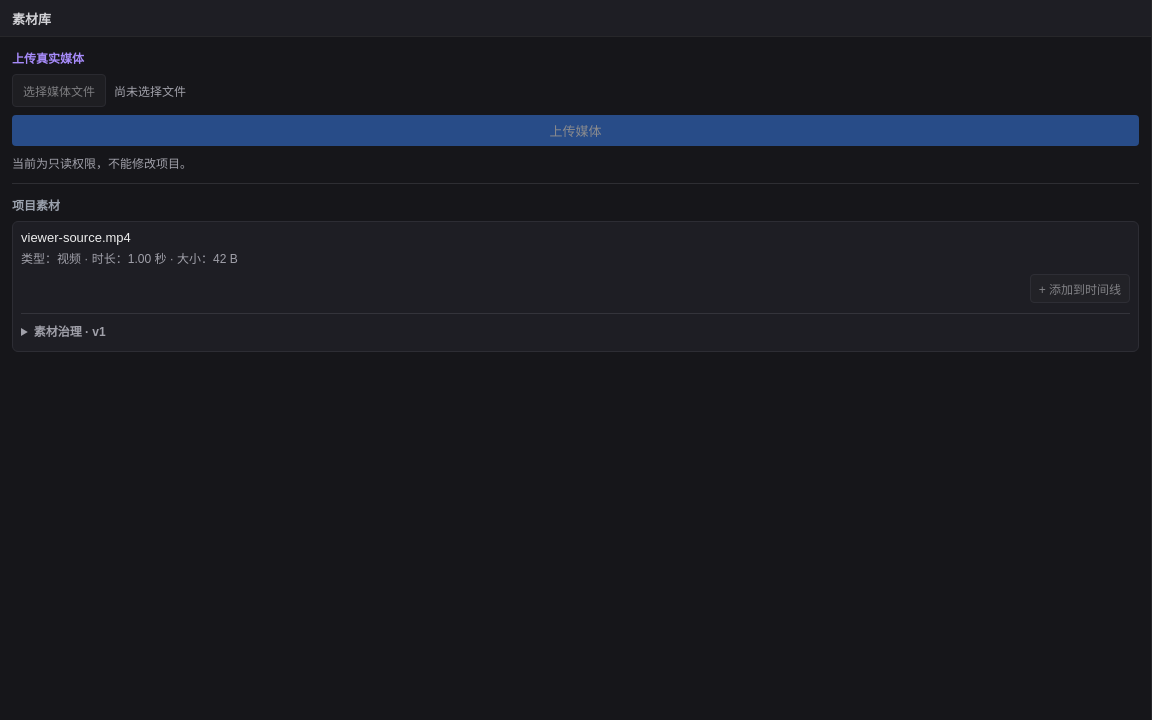
Test: Aether Studio 中文工作台 › keeps governance and timeline writes disabled for viewers
Expected: the button "+ 添加到时间线" is disabled, top-left (1030, 274), bottom-right (1130, 303)
Click the heading "素材治理 · v1". click: (70, 332)
box: top-left (34, 325), bottom-right (106, 339)
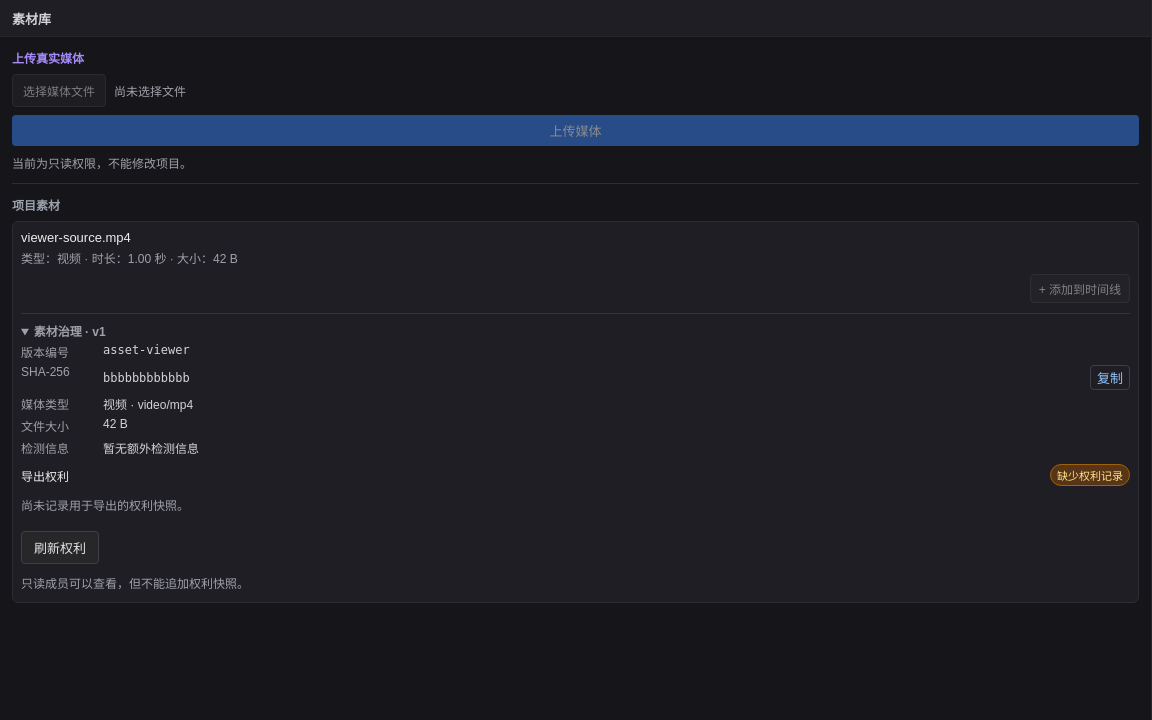
Now the text "缺少权利记录" is shown, box top-left (1050, 464), bottom-right (1130, 486)
Now the text "只读成员可以查看，但不能追加权利快照。" is shown, box top-left (21, 577), bottom-right (249, 591)
